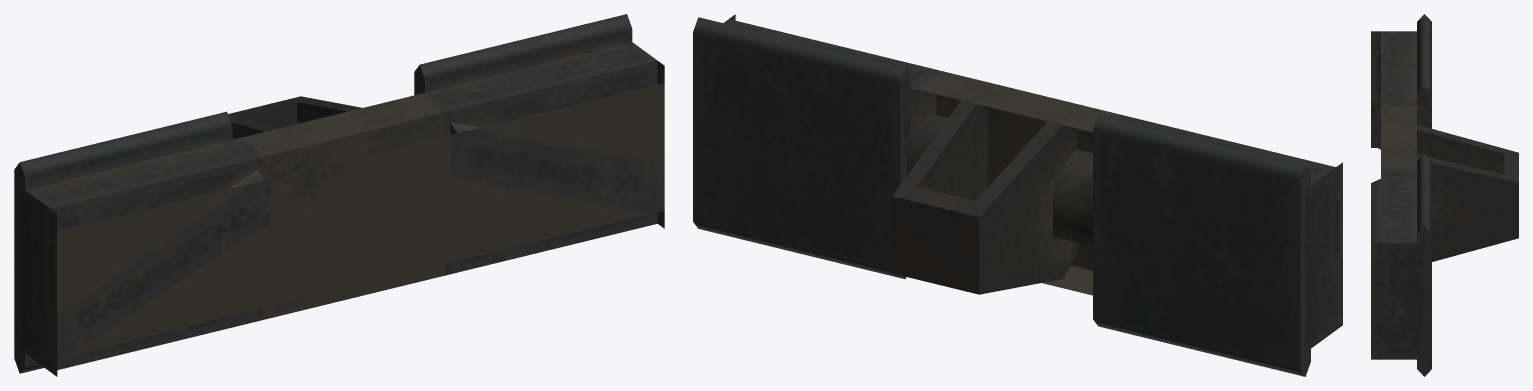
Rendered from segment_pair_0.glb.
The picture shows the model from 3 angles, left to right: view 1: azimuth 30°, elevation 25°; view 2: azimuth 150°, elevation 25°; view 3: azimuth 270°, elevation 25°; orthographic projection. The views are drawn at different scales.
Parts seen in each view (by area): view 1: set_0_group_0; view 2: set_0_group_0; view 3: set_0_group_0.
Part boxes in pixels (<box>): set_0_group_0: <box>14,14,664,376</box>; set_0_group_0: <box>693,14,1342,376</box>; set_0_group_0: <box>1371,14,1518,376</box>.
Size of the model in its own units: 0.4102 by 0.1366 by 0.121.
Materials: 1 (1 with a texture image).
